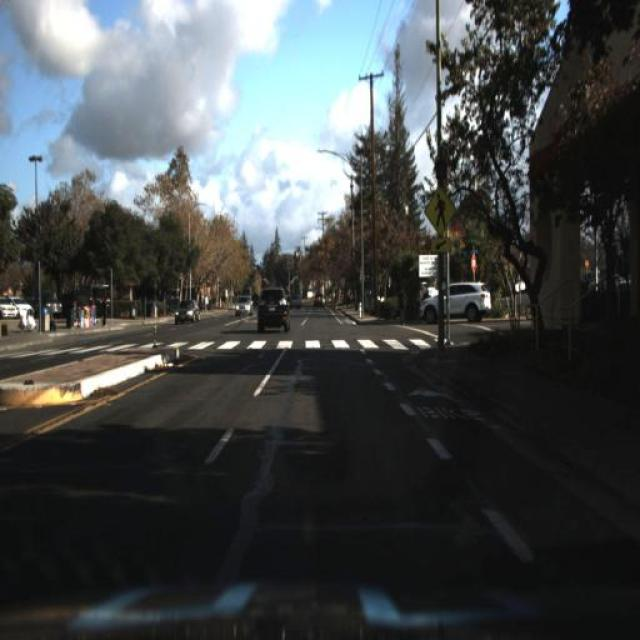car: (247, 272, 299, 344), (417, 274, 489, 324), (253, 284, 291, 336), (42, 290, 69, 319), (175, 295, 199, 327), (234, 291, 254, 319), (309, 286, 327, 310), (288, 291, 304, 311)
trafficLight: (397, 281, 409, 317), (98, 291, 109, 329), (203, 290, 211, 319)
